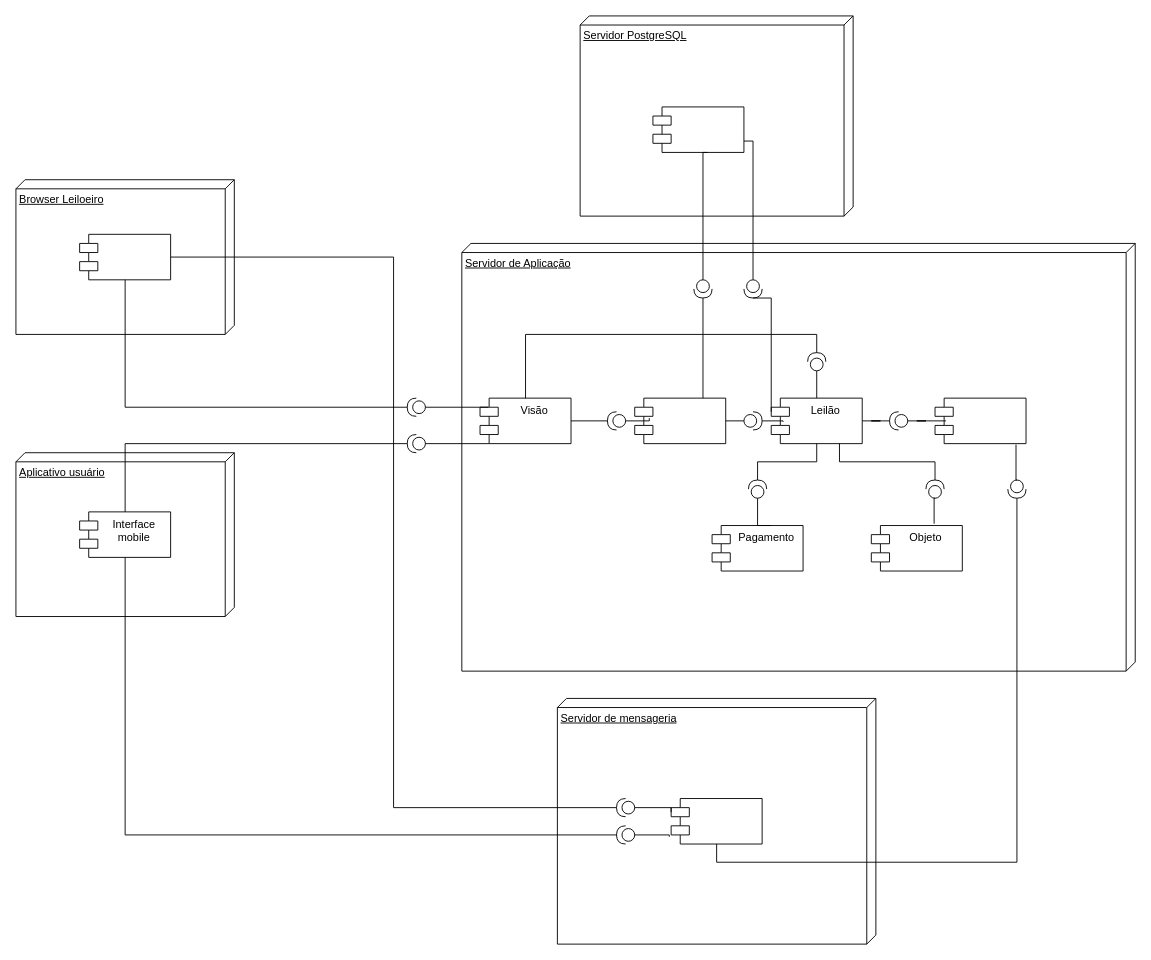
The diagram is 1151 pixels wide and 960 high, and some of its shapes have lost their labels. The centre of each missing label's shape, as x and y in pixels:
"Autenticação" goes at [680,420].
"Comunicação" goes at [980,420].
"Interface web" goes at [125,256].
"Postgres SGBD" goes at [698,129].
"RabbitMQ" goes at [716,821].
